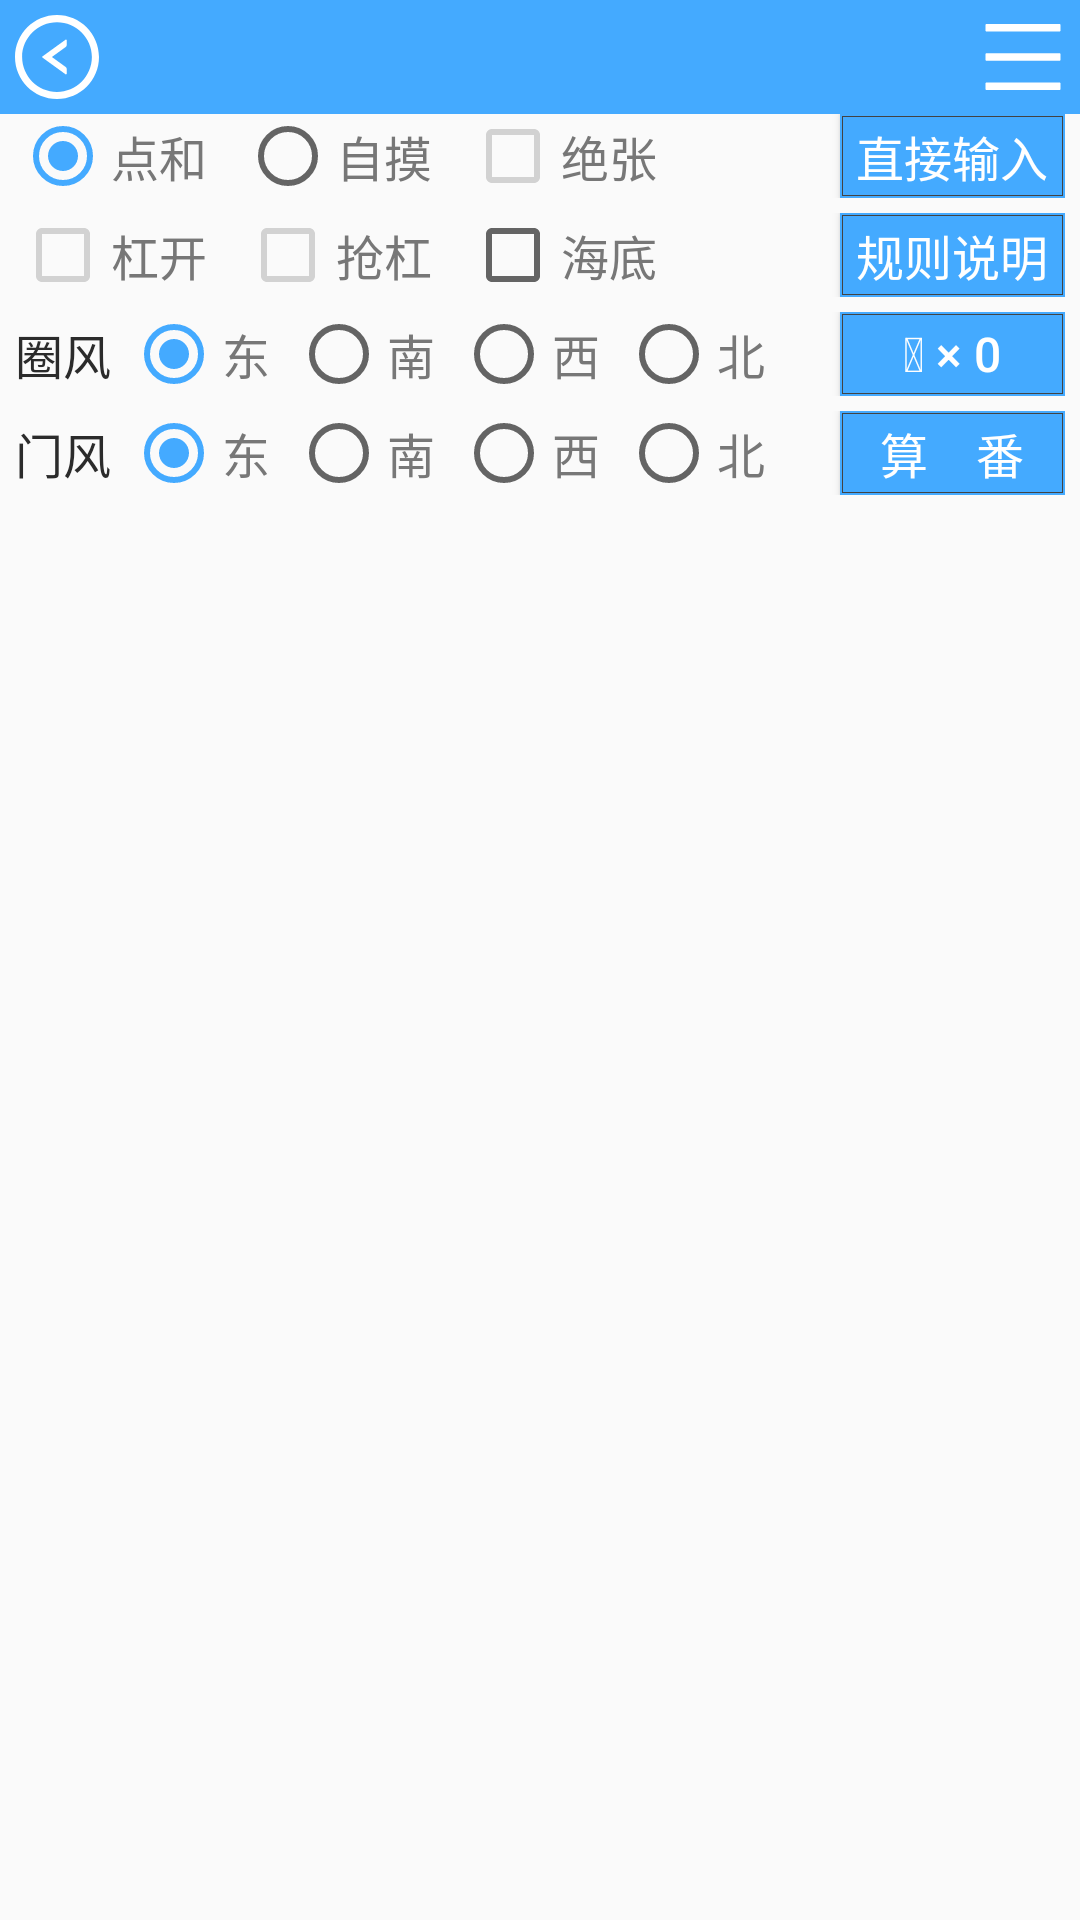

Named icons in this screenshot (1080 × 1920) and their centers, (x,y):
arrow left: (57,57)
menu: (1023,57)
